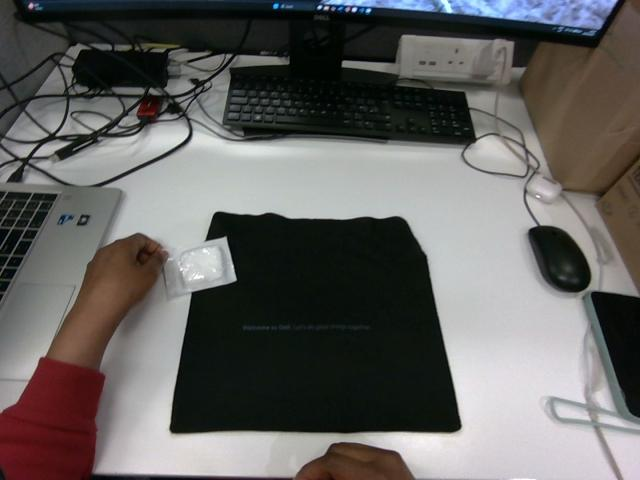gauze: (164, 237, 236, 297)
